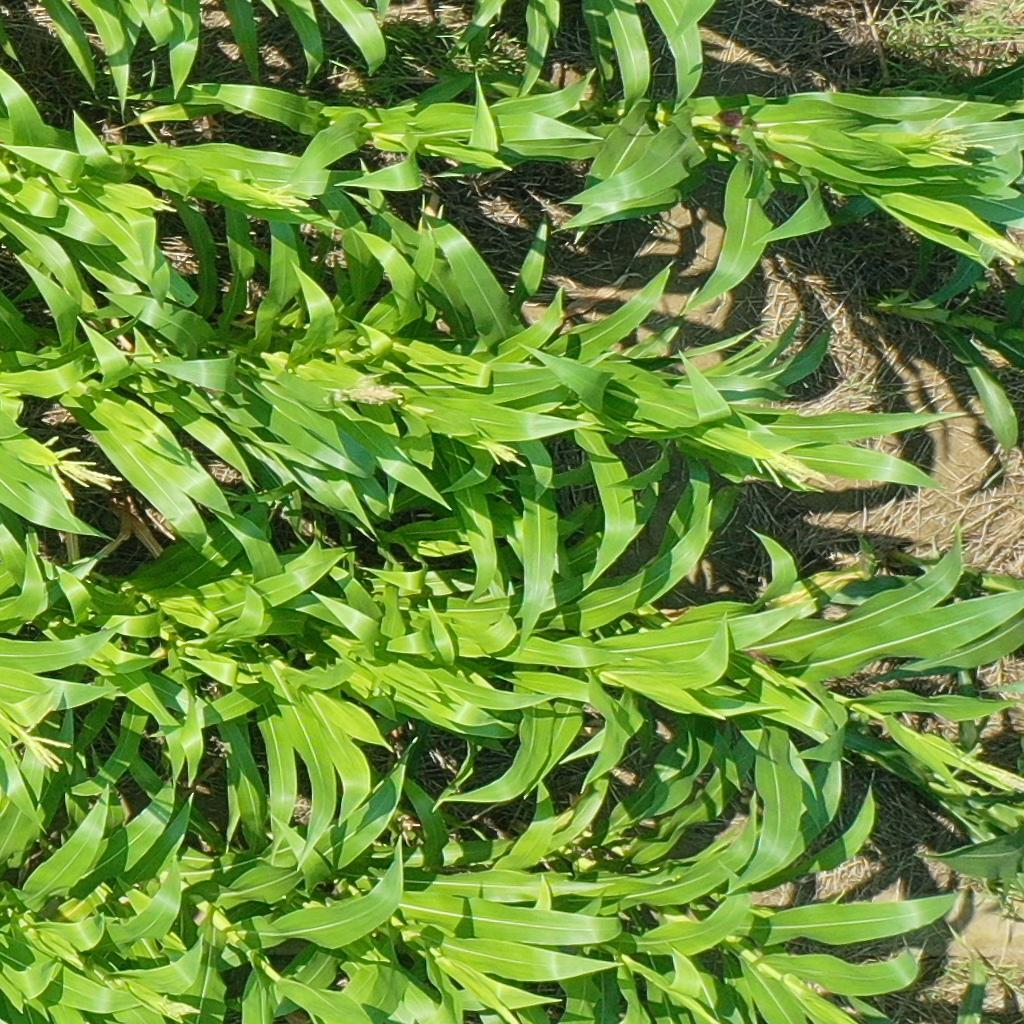Tassel: (37, 432, 123, 500), (916, 95, 992, 166), (751, 440, 831, 496), (961, 739, 1024, 799), (6, 716, 74, 771), (327, 374, 406, 409), (254, 175, 312, 215), (475, 431, 533, 471), (974, 229, 1024, 268), (156, 994, 198, 1024), (147, 196, 177, 216)
